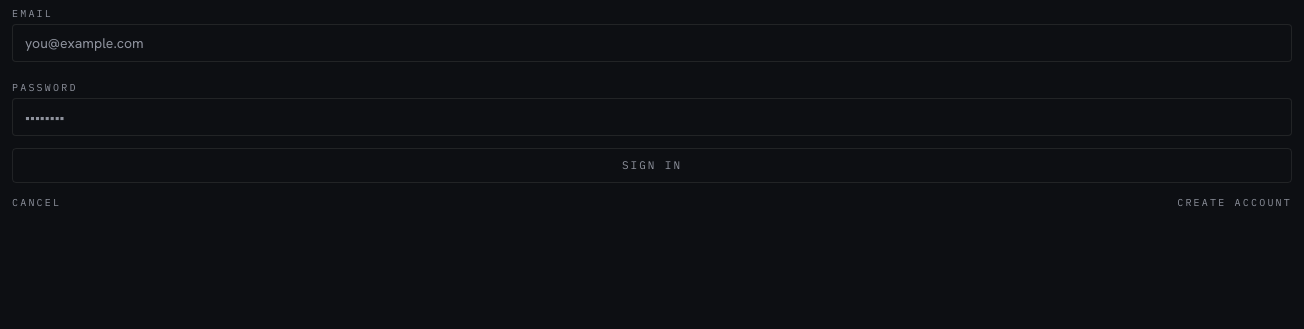
Scenario: EmailAuthForm › password mismatch validation › shows error when passwords do not match in sign-up mode
Step 1. Click the button "Create account" → (1235, 202), box [1177,194,1292,210]
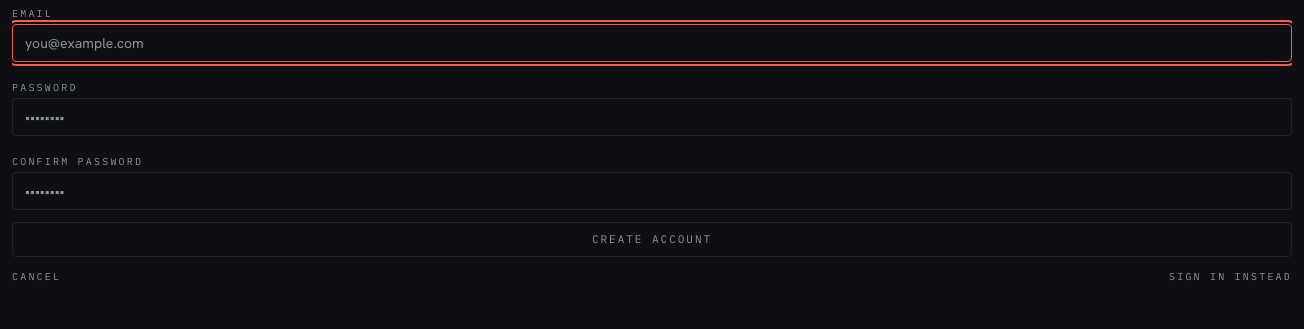
Step 2. Type "test@example.com" into the field labelled "Email" → (652, 43), box [12,24,1292,62]
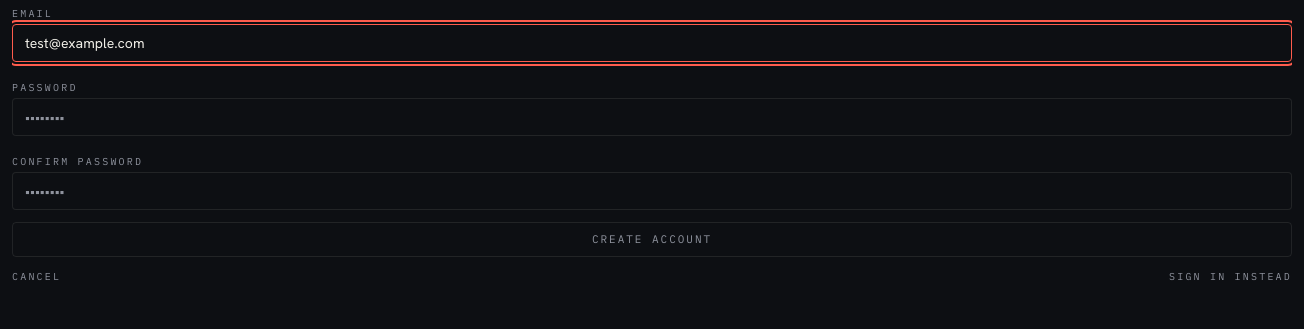
Step 3. Type "password123" into the password field labelled "Password" → (652, 117), box [12,98,1292,136]
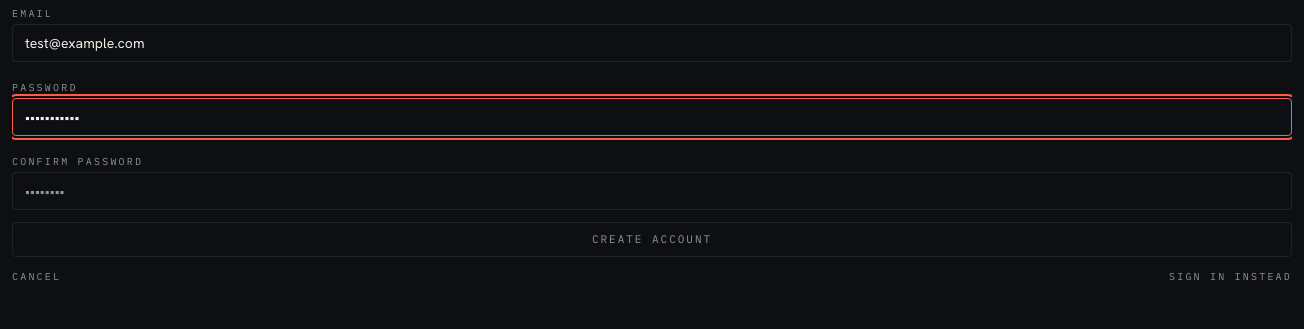
Step 4. Type "different" into the password field labelled "Confirm password" → (652, 191), box [12,172,1292,210]
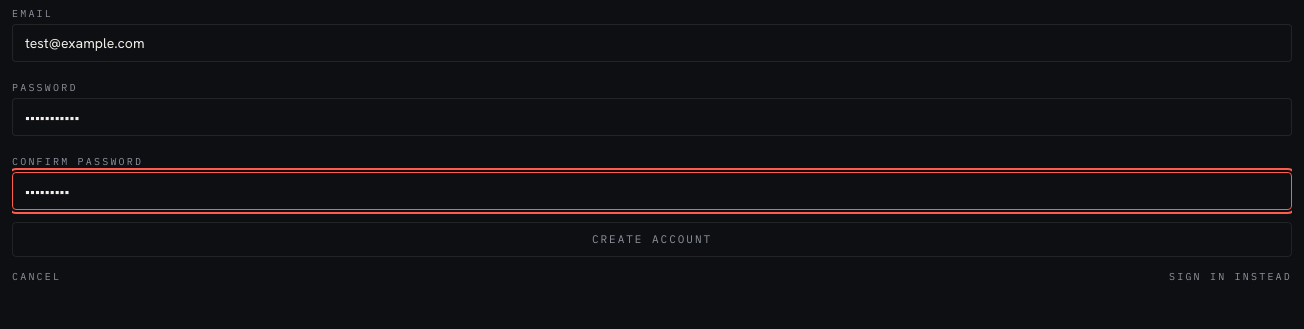
Step 5. Click the button "Create account" → (652, 239), box [12,222,1292,256]
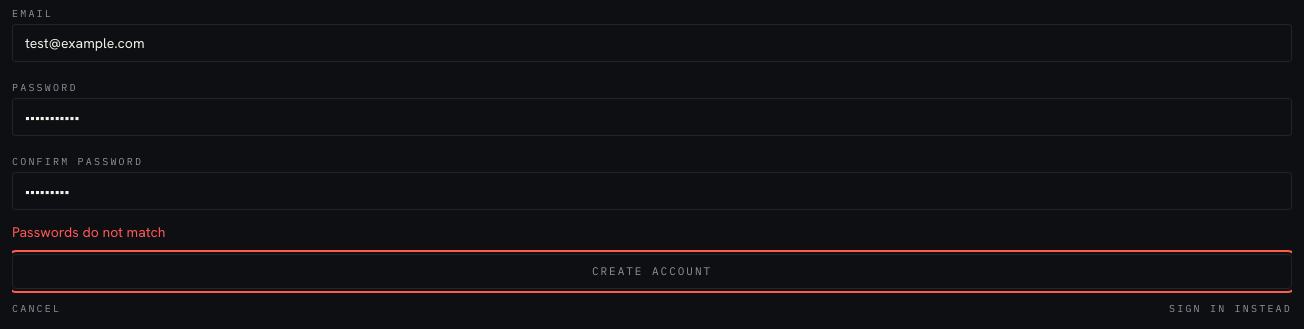
Expected: the text "Passwords do not match" is shown, [12,223,165,241]
